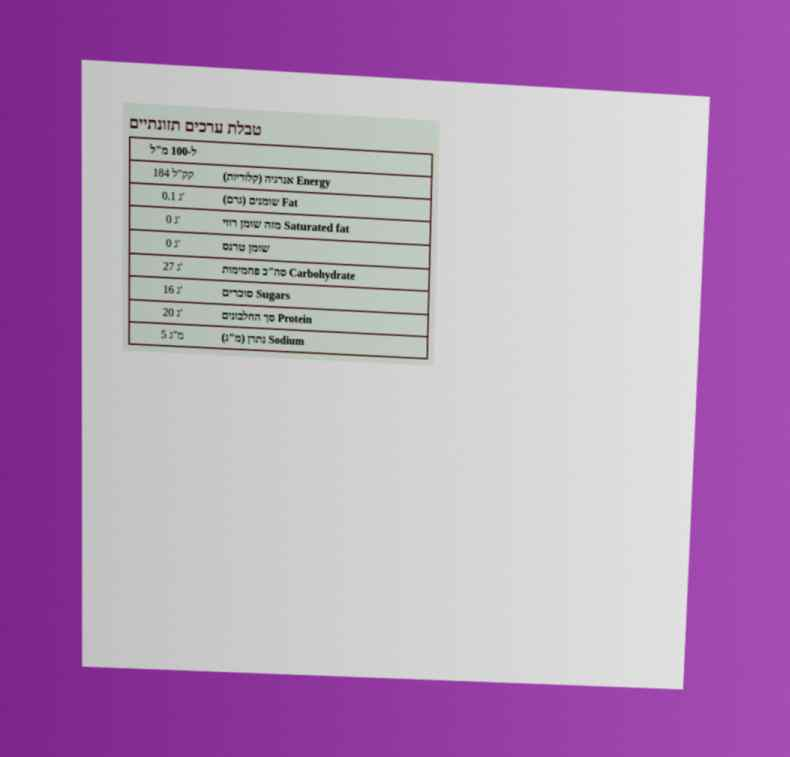carbs: (161, 258, 184, 274)
energy: (151, 165, 195, 182)
fat: (160, 188, 186, 204)
protein: (161, 305, 184, 320)
